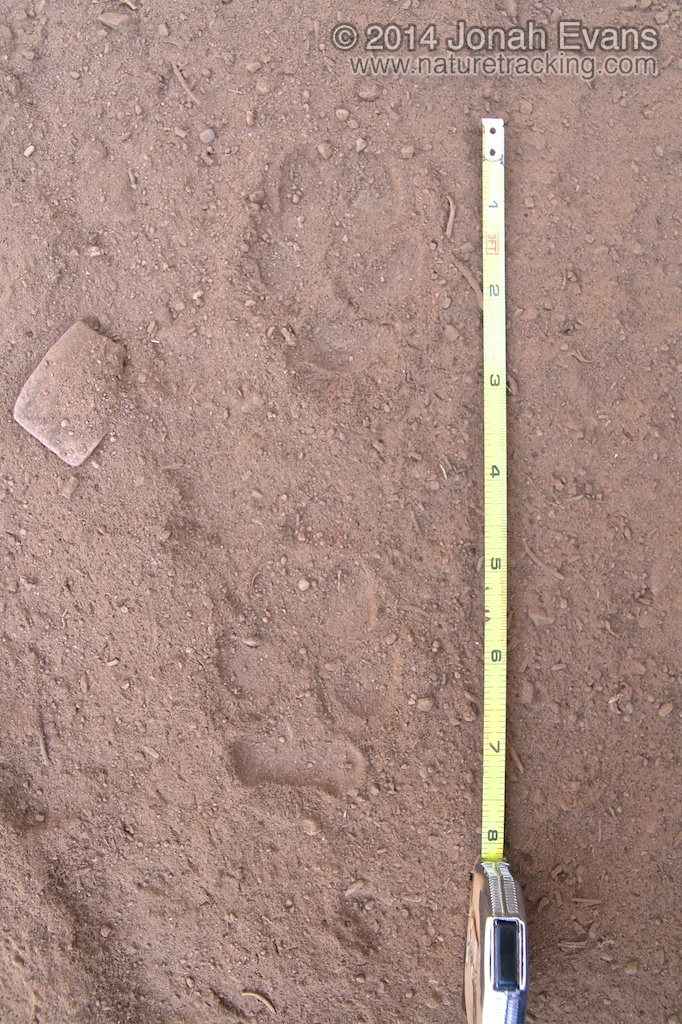coyote: (205, 553, 403, 816), (236, 138, 430, 387)
